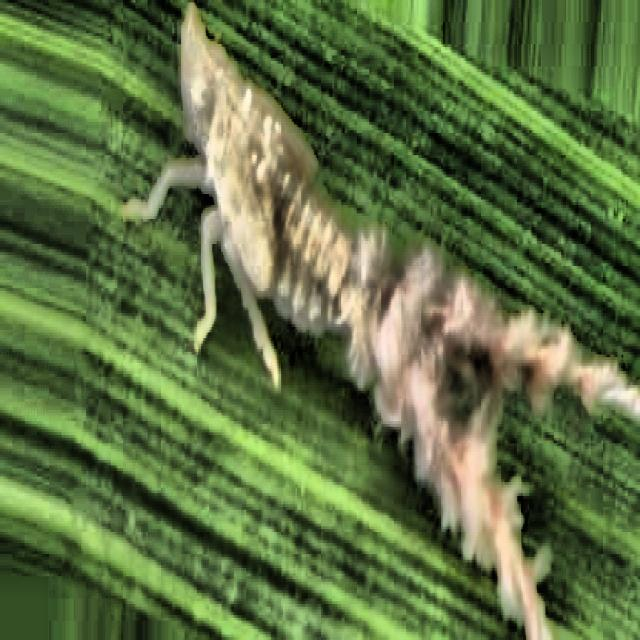Pyrilla-perpusilla: (129, 6, 640, 640)
